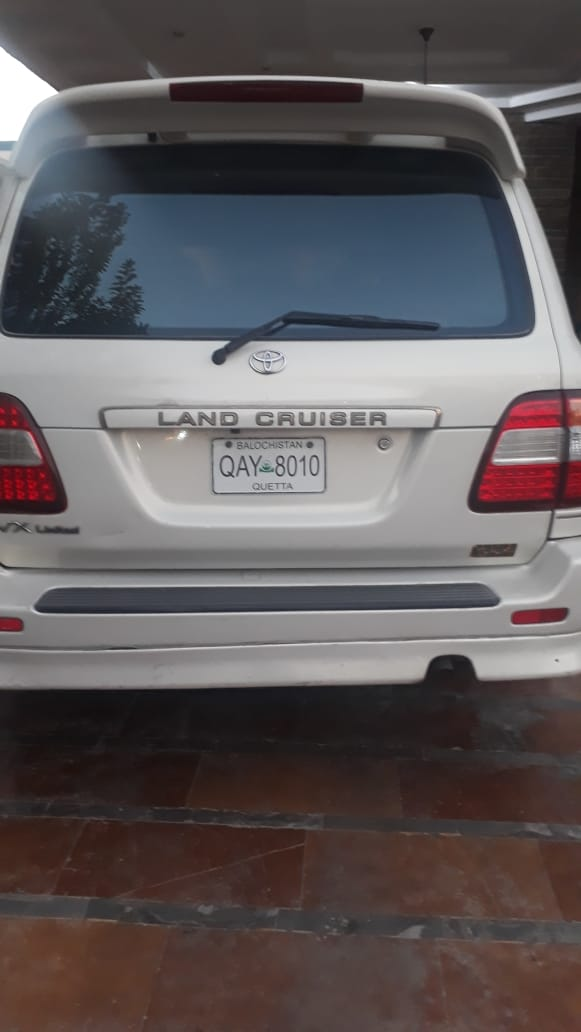license plate: (208, 436, 333, 498)
